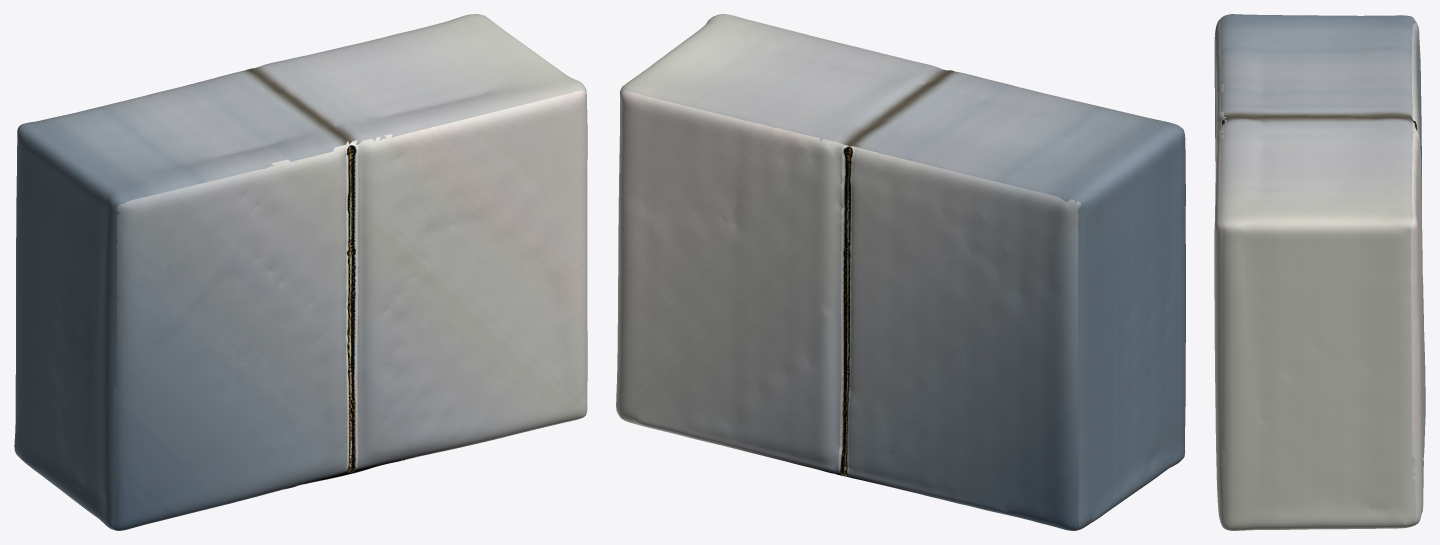
The model's file is kfl-2263.glb.
The picture shows the model from 3 angles, left to right: view 1: azimuth 30°, elevation 25°; view 2: azimuth 150°, elevation 25°; view 3: azimuth 270°, elevation 25°; orthographic projection. The views are drawn at different scales.
Visible parts, largest first — view 1: kfl-2263; view 2: kfl-2263; view 3: kfl-2263.
Part boxes in pixels (x1=…): kfl-2263: x1=14, y1=14, x2=587, y2=530; kfl-2263: x1=616, y1=14, x2=1185, y2=530; kfl-2263: x1=1214, y1=14, x2=1425, y2=530.
Size of the model in its own units: 0.9972 by 0.6751 by 0.4135.
Materials: 4 (4 with a texture image).
